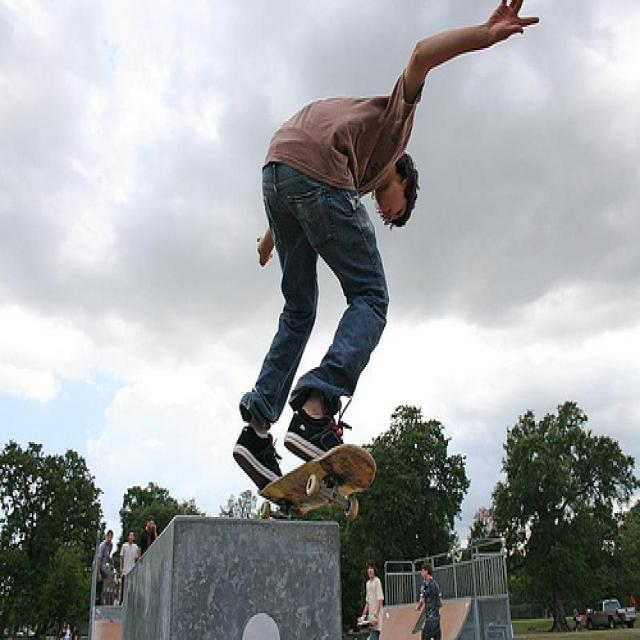Vehicle: (584, 596, 635, 631)
